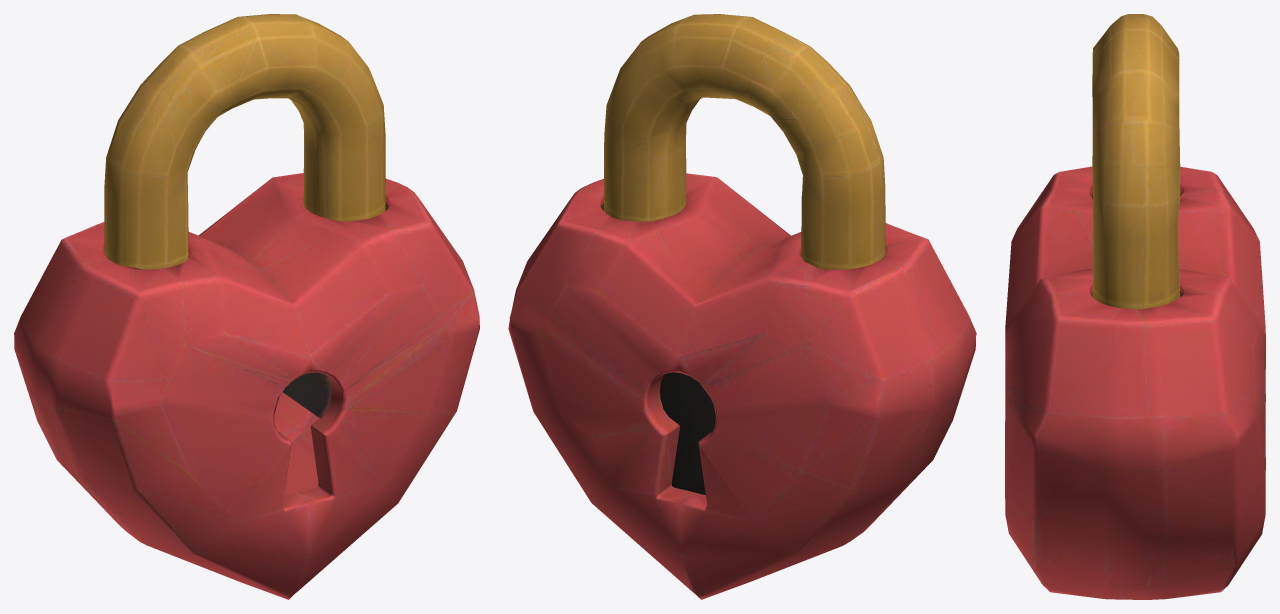
File: lock_08.glb
3 views of the same model, side by side, from view 1: azimuth 30°, elevation 25°; view 2: azimuth 150°, elevation 25°; view 3: azimuth 270°, elevation 25° (orthographic). The views are drawn at different scales.
Parts seen in each view (by area): view 1: geometry_0; view 2: geometry_0; view 3: geometry_0.
Part boxes in pixels (<box>): geometry_0: <box>14,14,479,599</box>; geometry_0: <box>508,14,976,599</box>; geometry_0: <box>1005,14,1265,599</box>.
Bounding box in the file's own units: 0.7369 × 0.9521 × 0.3979.
Materials: 1 (1 with a texture image).
